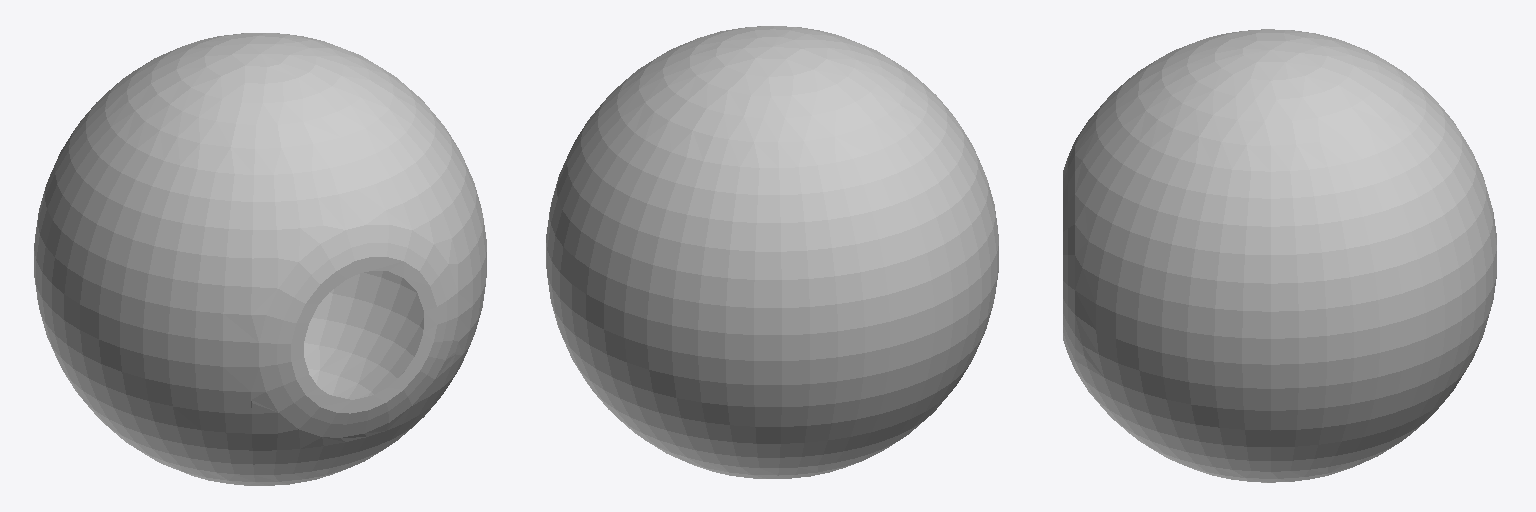
File: eyewhite.obj
The picture shows the model from 3 angles: view 1: azimuth 30°, elevation 25°; view 2: azimuth 150°, elevation 25°; view 3: azimuth 270°, elevation 25°; orthographic projection.
Visible parts, largest first — view 1: eye_white; view 2: eye_white; view 3: eye_white.
Part boxes in pixels (bbox=[...]): eye_white: bbox=[34, 33, 486, 485]; eye_white: bbox=[546, 26, 998, 478]; eye_white: bbox=[1063, 29, 1496, 482].
Bounding box in the file's own units: 23.95 × 24 × 22.93.